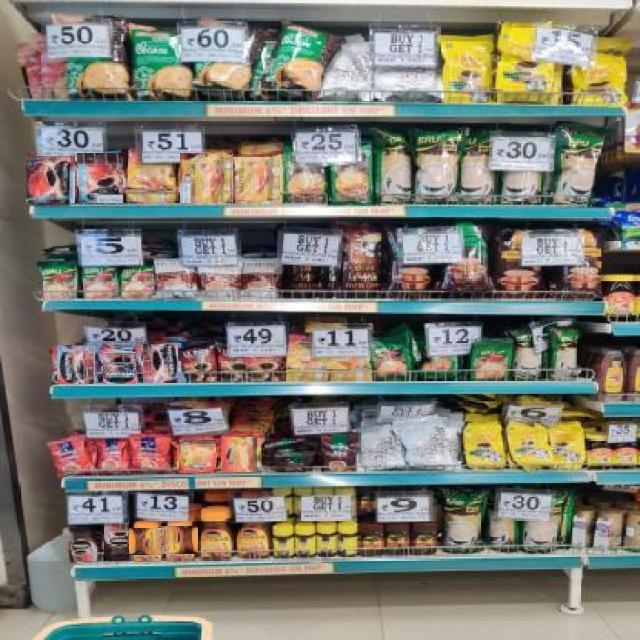Coffee: (180, 152, 233, 203), (129, 150, 177, 202), (76, 152, 123, 203), (26, 156, 75, 203), (234, 157, 280, 201), (198, 513, 232, 559), (57, 345, 94, 384), (142, 344, 178, 383), (178, 439, 216, 473), (222, 437, 257, 472), (236, 524, 270, 560), (102, 351, 136, 384), (161, 527, 198, 554), (127, 528, 164, 555), (103, 523, 129, 561), (71, 526, 97, 563)
